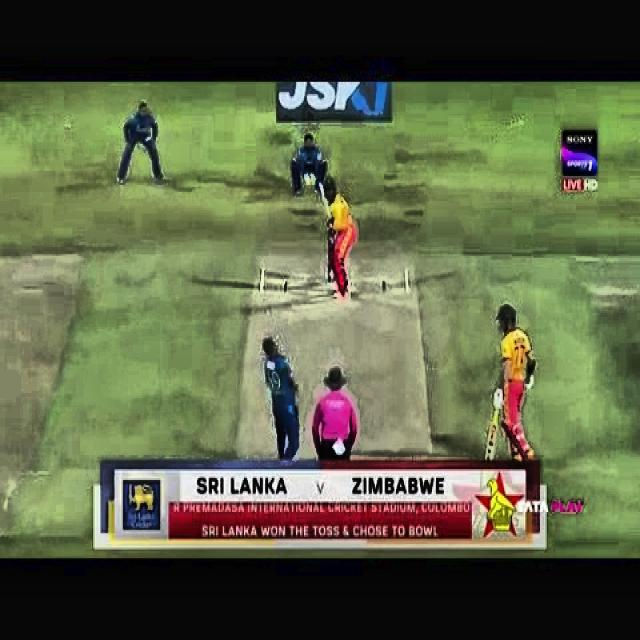Left-stump: (328, 263, 331, 281)
